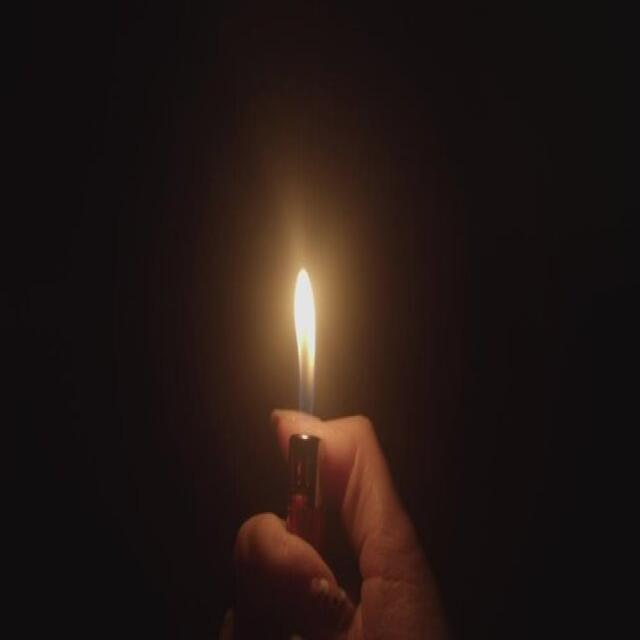fire: (294, 266, 315, 432)
